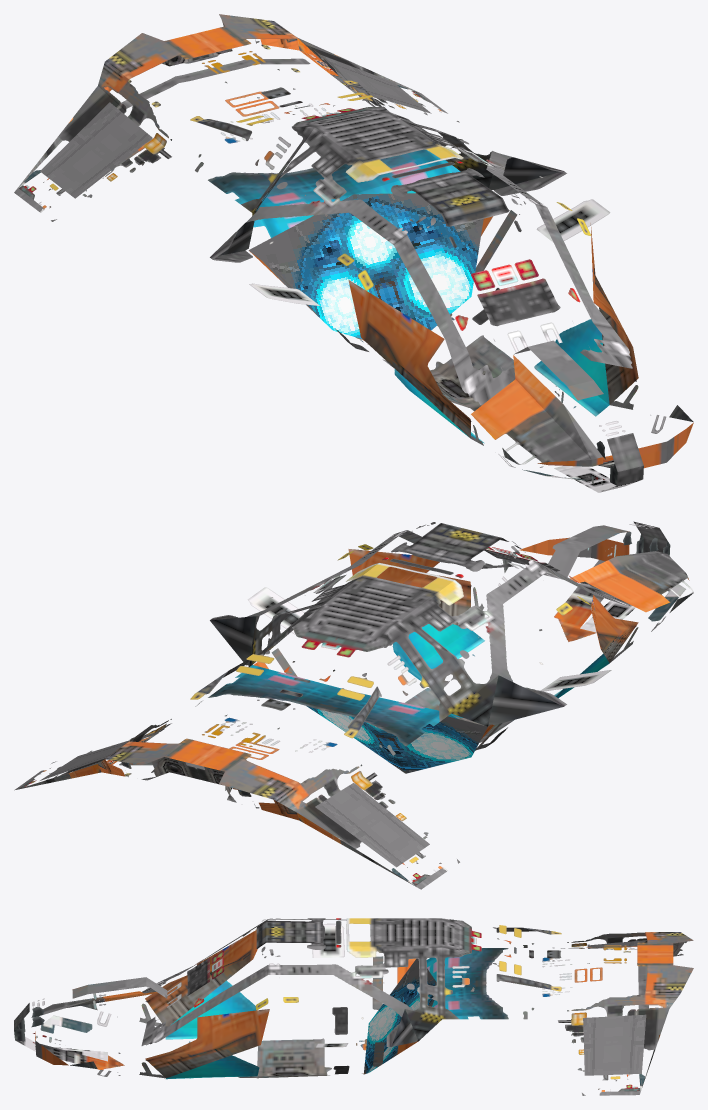
File: LOD1-UVFlip.obj
The picture shows the model from 3 angles, top to bottom: view 1: azimuth 30°, elevation 25°; view 2: azimuth 150°, elevation 25°; view 3: azimuth 270°, elevation 25°; orthographic projection. The views are drawn at different scales.
Parts seen in each view (by area): view 1: frontUV, burnerUV, Badge0_MAT; view 2: frontUV, Badge0_MAT, burnerUV; view 3: frontUV, Badge0_MAT, burnerUV.
Part boxes in pixels (x1,y1,x2,y2): frontUV: (14,14,693,492); burnerUV: (248,193,483,339); Badge0_MAT: (40,54,431,198); frontUV: (14,521,693,889); Badge0_MAT: (40,732,429,867); burnerUV: (306,706,487,773); frontUV: (14,918,693,1095); Badge0_MAT: (583,940,646,1075); burnerUV: (363,958,436,1074).
Size of the model in its own units: 11.7 by 5.34 by 23.03.
